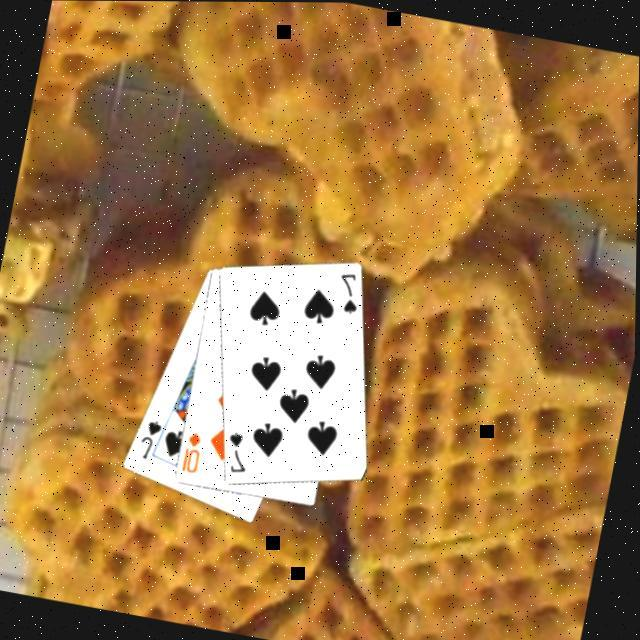10D: (177, 429, 206, 478)
7S: (218, 429, 255, 479), (329, 269, 366, 319)
JS: (133, 416, 165, 464)
